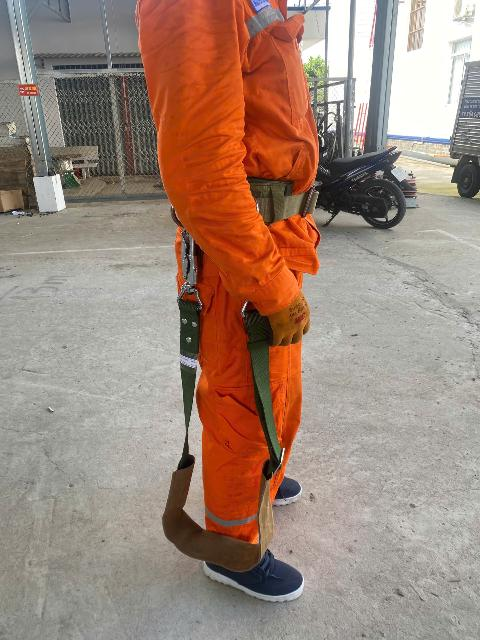gloves: (263, 273, 323, 355)
harness: (179, 161, 353, 244)
shoes: (175, 520, 312, 613), (252, 464, 317, 512)
